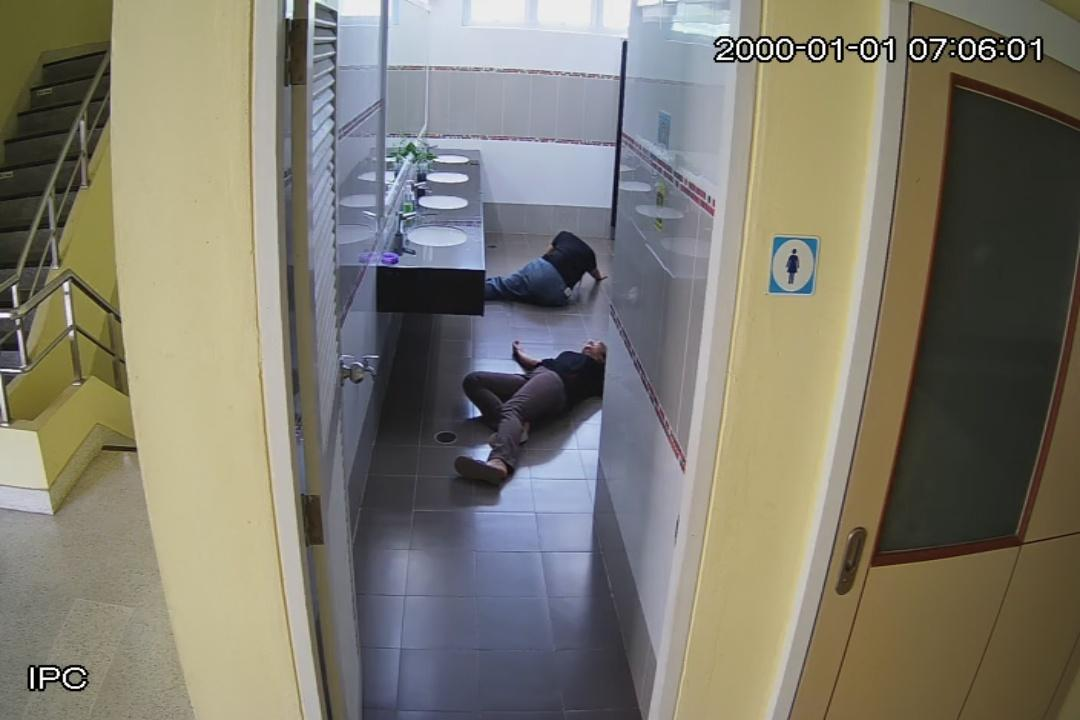fall: (463, 341, 605, 486), (486, 229, 603, 306)
